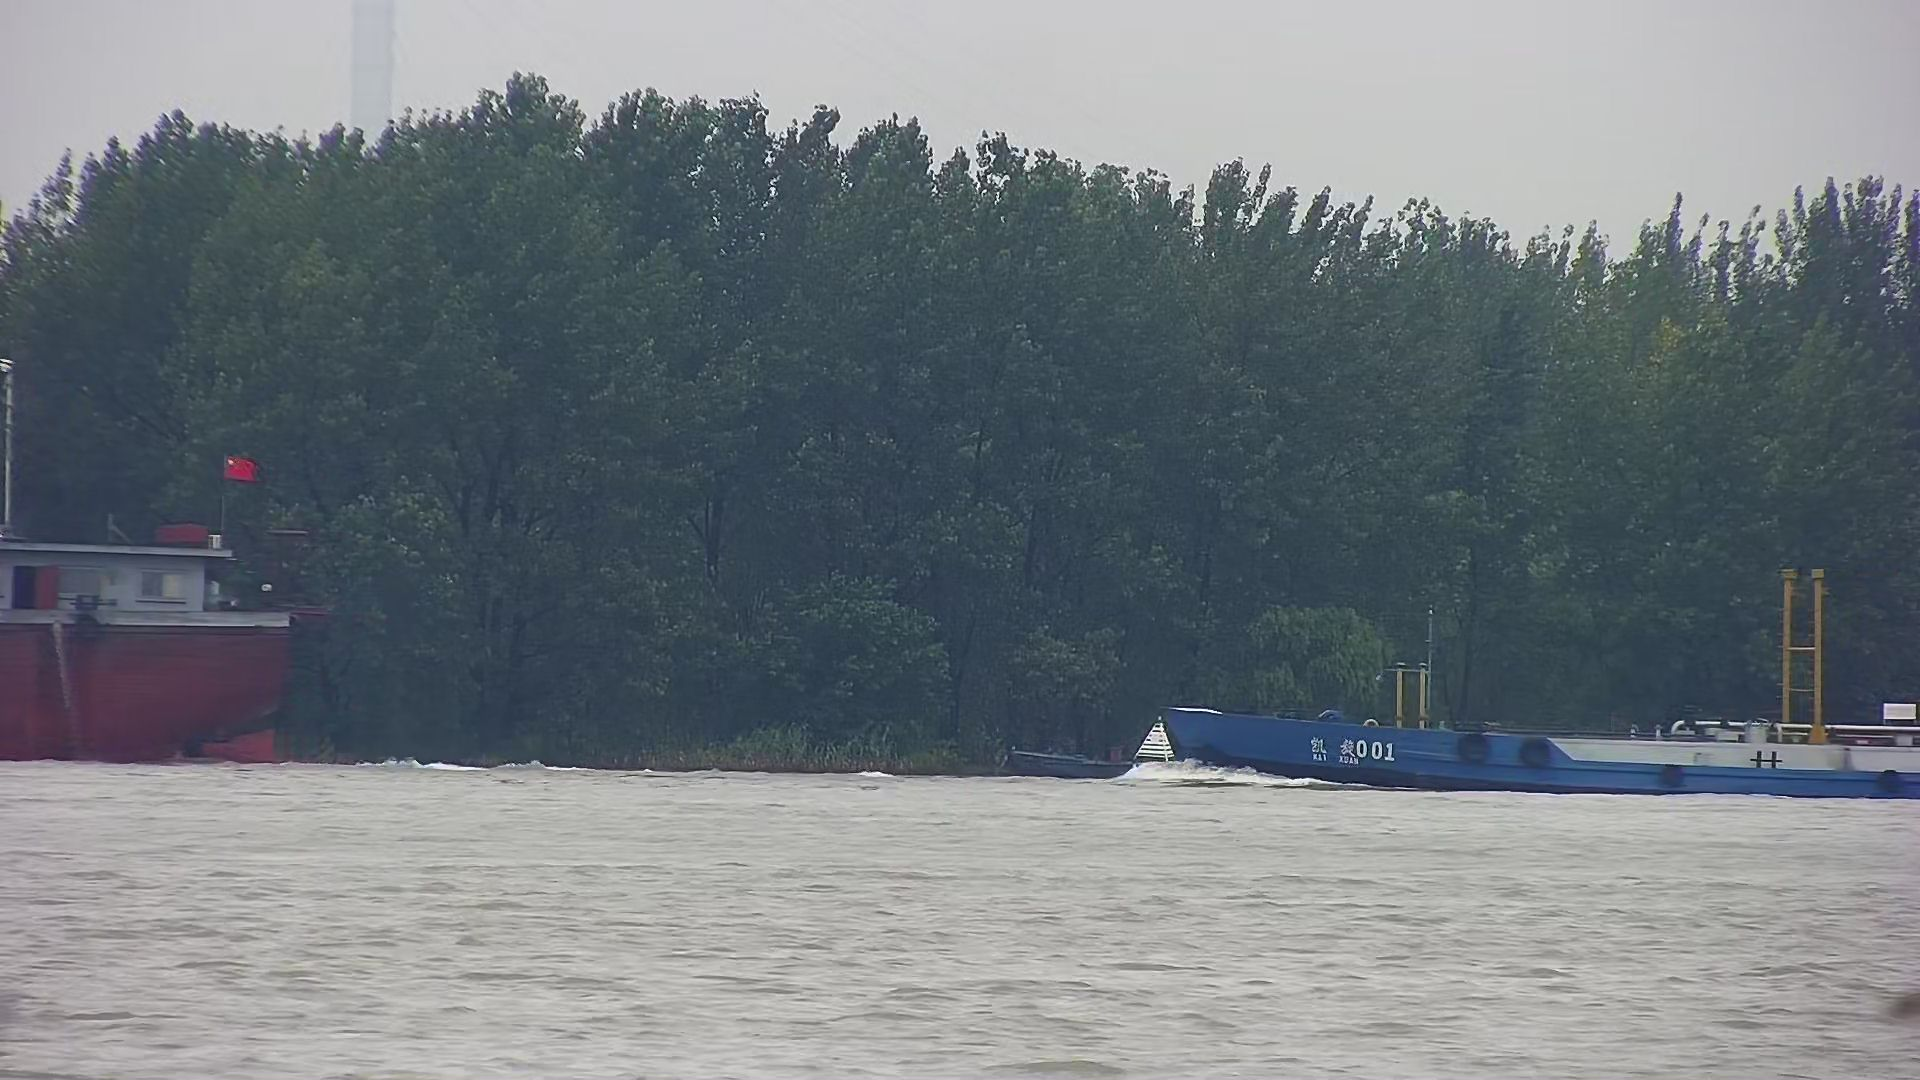boat: (996, 690, 1228, 796)
ship: (1158, 559, 1920, 807), (1, 349, 334, 765)
